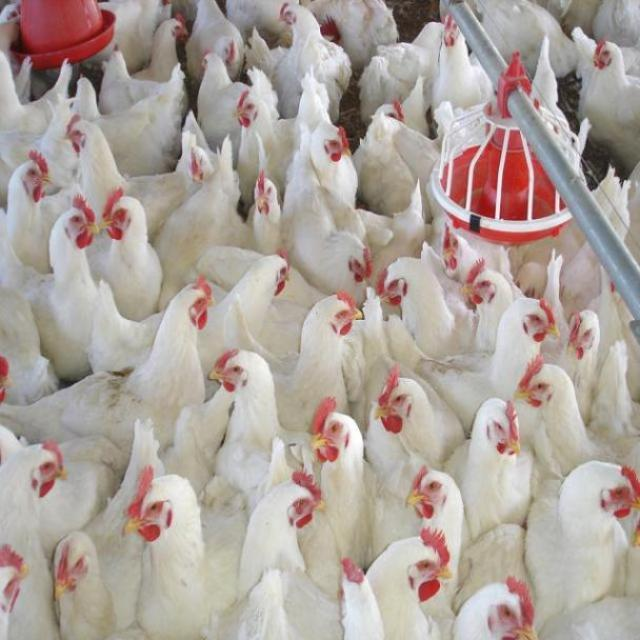Chicken: (120, 464, 200, 555), (253, 476, 328, 569), (395, 525, 461, 621), (292, 398, 371, 471), (204, 345, 279, 415), (370, 368, 439, 443), (6, 435, 68, 510), (479, 569, 544, 640), (51, 531, 105, 616), (588, 455, 640, 538), (94, 185, 151, 259), (306, 286, 359, 361), (163, 280, 224, 340), (332, 549, 381, 622), (401, 461, 456, 526), (50, 199, 99, 266), (514, 353, 567, 414), (473, 394, 521, 458), (7, 150, 55, 206), (512, 297, 560, 351), (58, 110, 97, 164), (460, 265, 499, 317), (259, 246, 295, 301), (370, 96, 410, 142), (233, 87, 269, 136), (339, 233, 374, 282), (376, 260, 407, 314), (564, 301, 595, 355), (437, 222, 468, 273), (250, 171, 282, 220), (314, 119, 348, 164), (591, 37, 625, 78), (318, 12, 345, 57), (187, 144, 213, 189), (194, 48, 225, 85), (435, 14, 466, 51), (159, 13, 190, 48), (276, 0, 305, 37), (220, 33, 246, 72), (109, 43, 133, 70)
